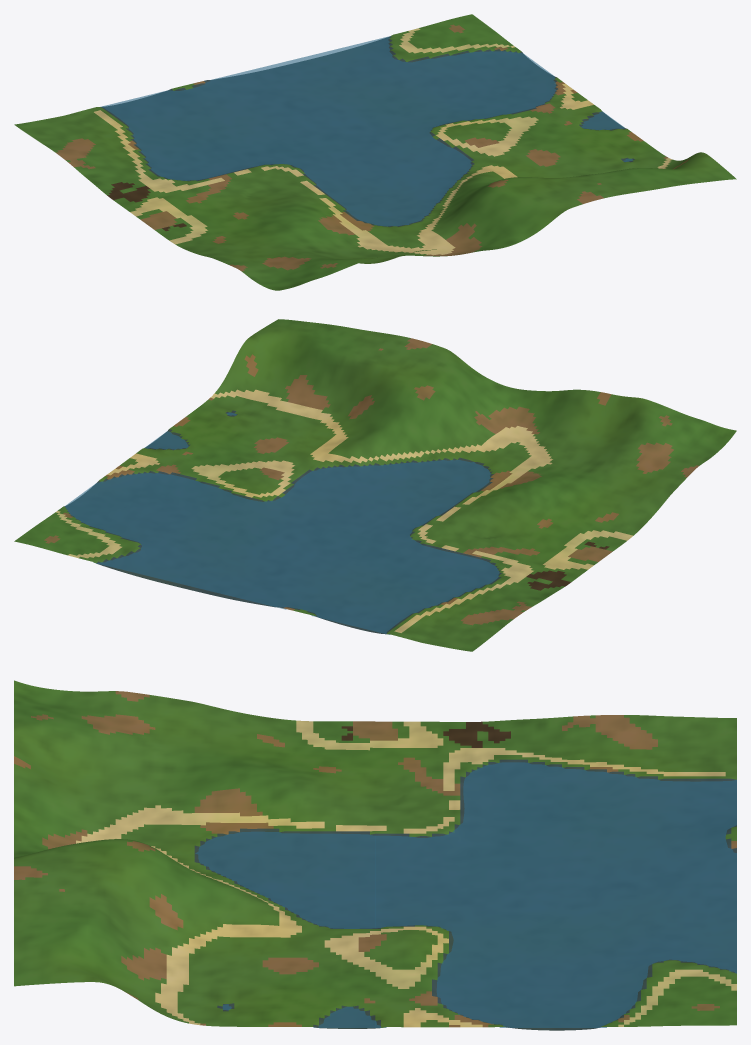
File: chunk_2_7.glb
3 renders of one model, top to bottom at view 1: azimuth 30°, elevation 25°; view 2: azimuth 150°, elevation 25°; view 3: azimuth 270°, elevation 25°, orthographic. The views are drawn at different scales.
Visible parts, largest first — view 1: Surface_Water, Water, Surface_Grass, Surface_Sand, Surface_Dirt, Surface_Mud; view 2: Surface_Grass, Surface_Water, Water, Surface_Sand, Surface_Dirt, Surface_Mud; view 3: Surface_Grass, Surface_Water, Water, Surface_Sand, Surface_Dirt, Surface_Mud.
Boxes of the visible parts, box(x1,y1,x2,y2) form: Surface_Water: box(101, 36, 634, 226); Water: box(101, 36, 632, 226); Surface_Grass: box(14, 14, 736, 290); Surface_Sand: box(94, 28, 672, 255); Surface_Dirt: box(56, 24, 689, 271); Surface_Mud: box(107, 182, 186, 231); Surface_Grass: box(14, 319, 736, 651); Surface_Water: box(64, 410, 501, 634); Water: box(65, 412, 499, 634); Surface_Sand: box(56, 389, 633, 632); Surface_Dirt: box(44, 338, 699, 625); Surface_Mud: box(526, 541, 609, 590); Surface_Grass: box(14, 680, 736, 1027); Surface_Water: box(194, 759, 736, 1030); Water: box(195, 762, 736, 1027); Surface_Sand: box(76, 720, 736, 1027); Surface_Dirt: box(14, 691, 736, 1027); Surface_Mud: box(341, 721, 510, 747).
Bounding box in the file's own units: 256 × 26.17 × 256.
